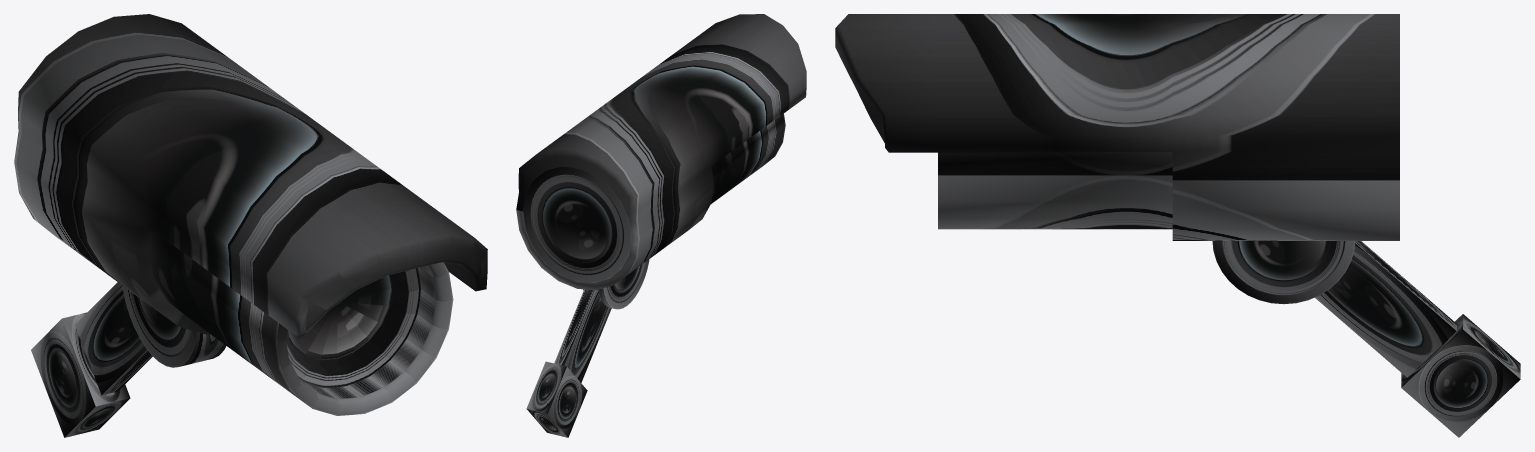
The picture shows the model from 3 angles, left to right: view 1: azimuth 30°, elevation 25°; view 2: azimuth 150°, elevation 25°; view 3: azimuth 270°, elevation 25°; orthographic projection. The views are drawn at different scales.
Visible parts, largest first — view 1: camera.obj; view 2: camera.obj; view 3: camera.obj.
Part boxes in pixels (box(x1,y1,x2,y2)): camera.obj: box(14, 14, 487, 437); camera.obj: box(516, 14, 806, 437); camera.obj: box(835, 14, 1520, 437).
Bounding box in the file's own units: 2.27 × 4.8 × 7.35.
Materials: 1 (1 with a texture image).
